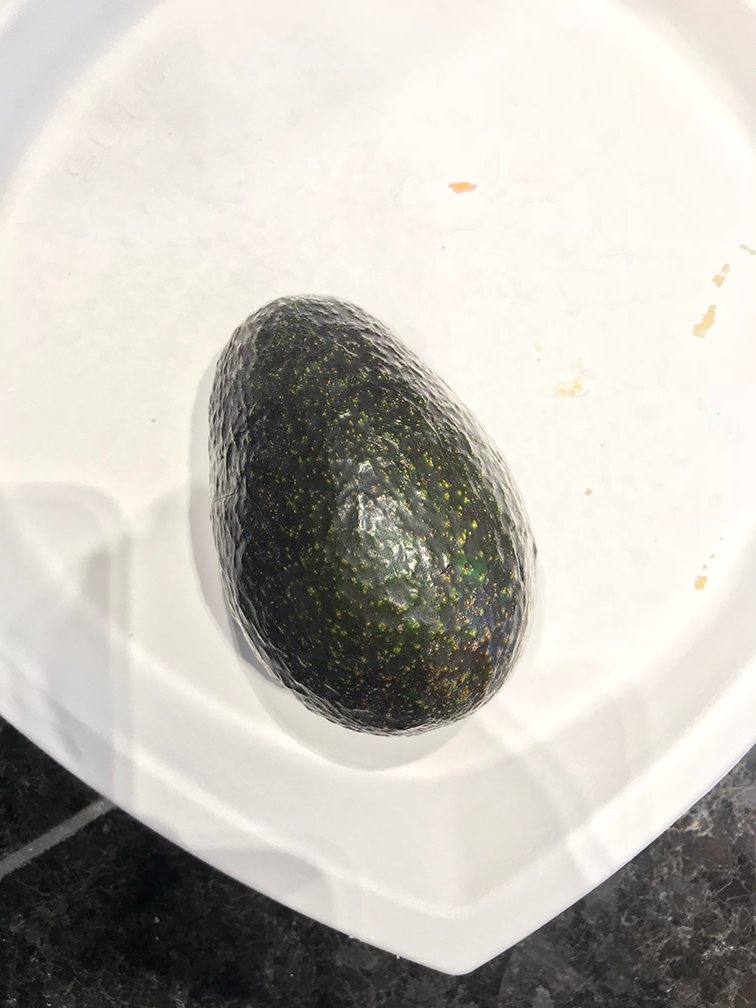avocado: (194, 283, 556, 749)
